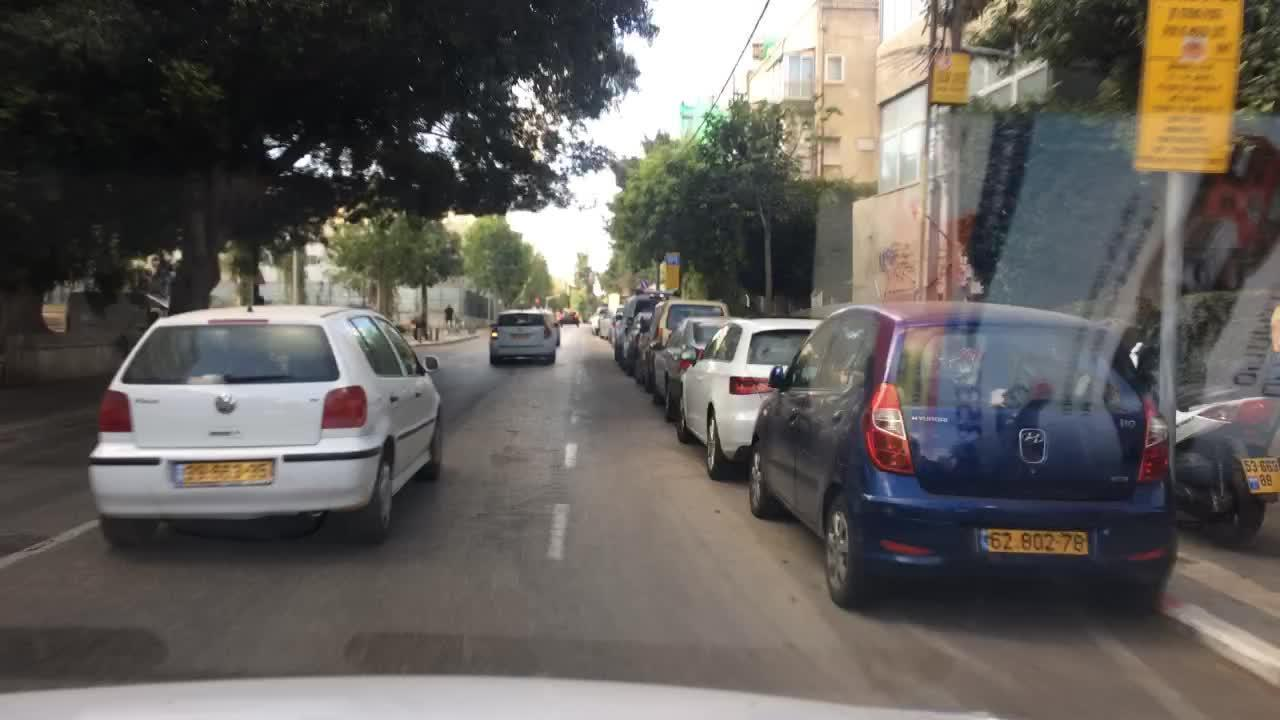Hyundai: (1019, 427, 1048, 449)
Volkswagen: (210, 389, 238, 421)
